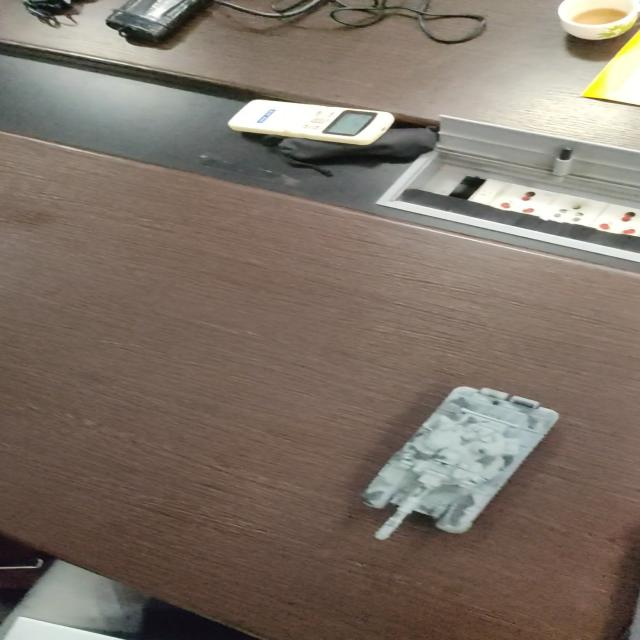tank: (364, 384, 560, 540)
